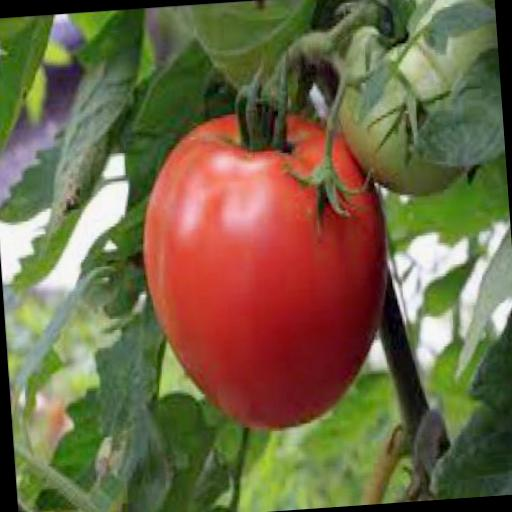biodegradable: (129, 90, 398, 442), (325, 0, 506, 201)
